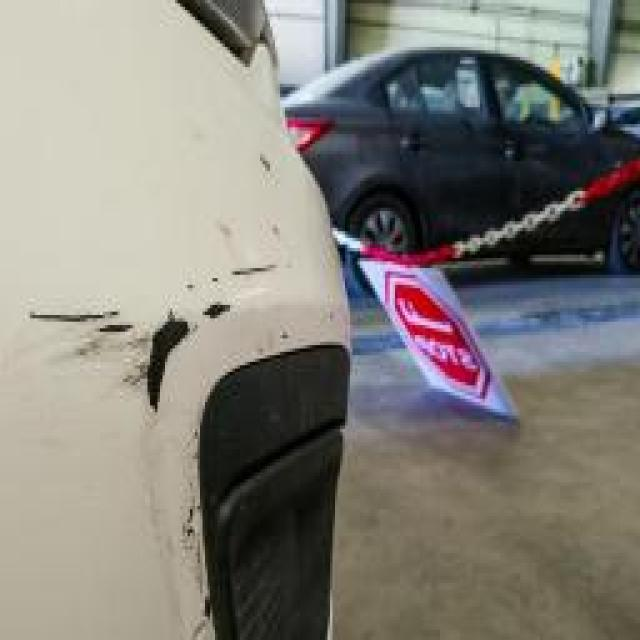Bumper: (22, 134, 318, 640)
